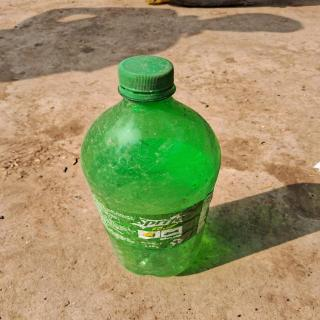Plastic-bottle: (77, 47, 227, 283)
